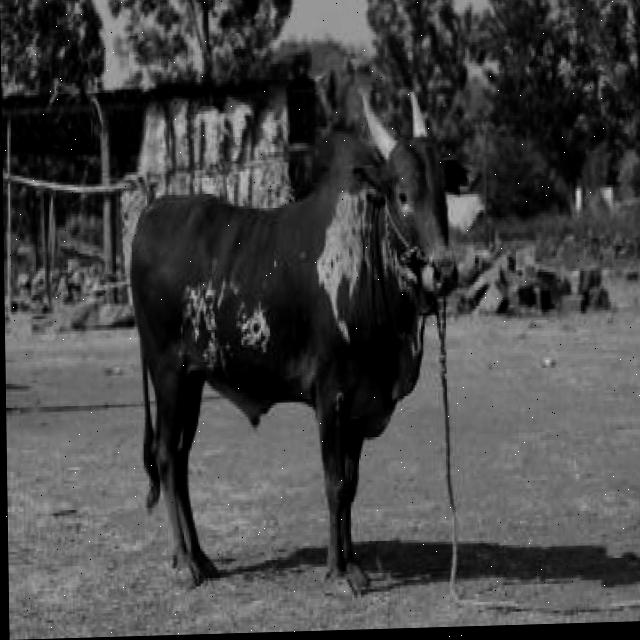Cow: (124, 85, 487, 605)
